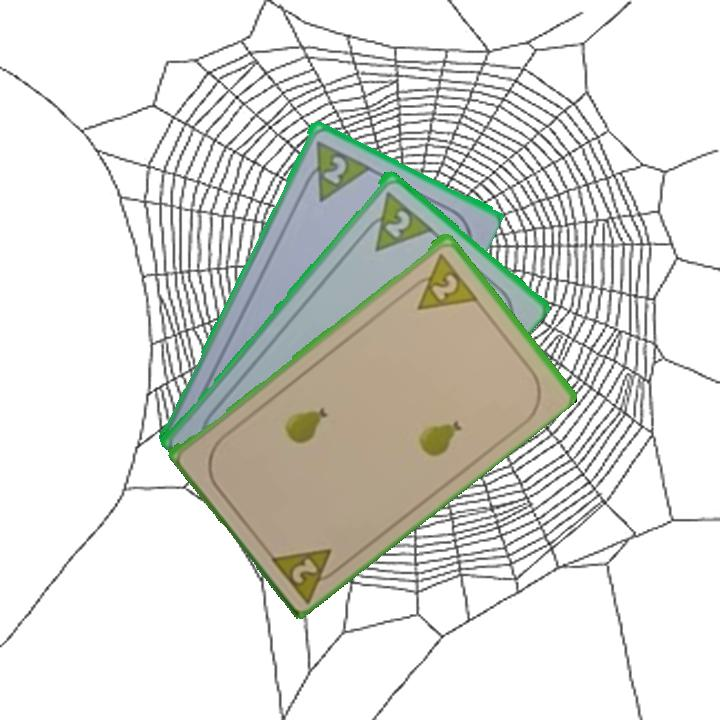2p: (265, 543, 348, 604), (403, 249, 480, 313), (381, 206, 414, 241), (319, 151, 350, 187)
